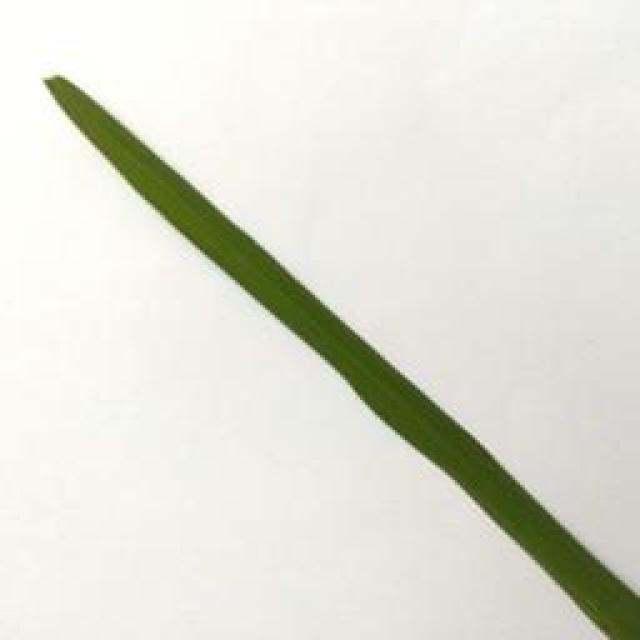Healthy-Plant: (186, 240, 316, 294), (42, 73, 143, 140), (303, 340, 428, 394), (358, 394, 485, 445), (465, 491, 585, 543), (88, 140, 202, 192), (136, 193, 258, 239), (410, 445, 530, 491), (249, 294, 366, 339), (557, 582, 640, 639), (518, 544, 624, 584)
